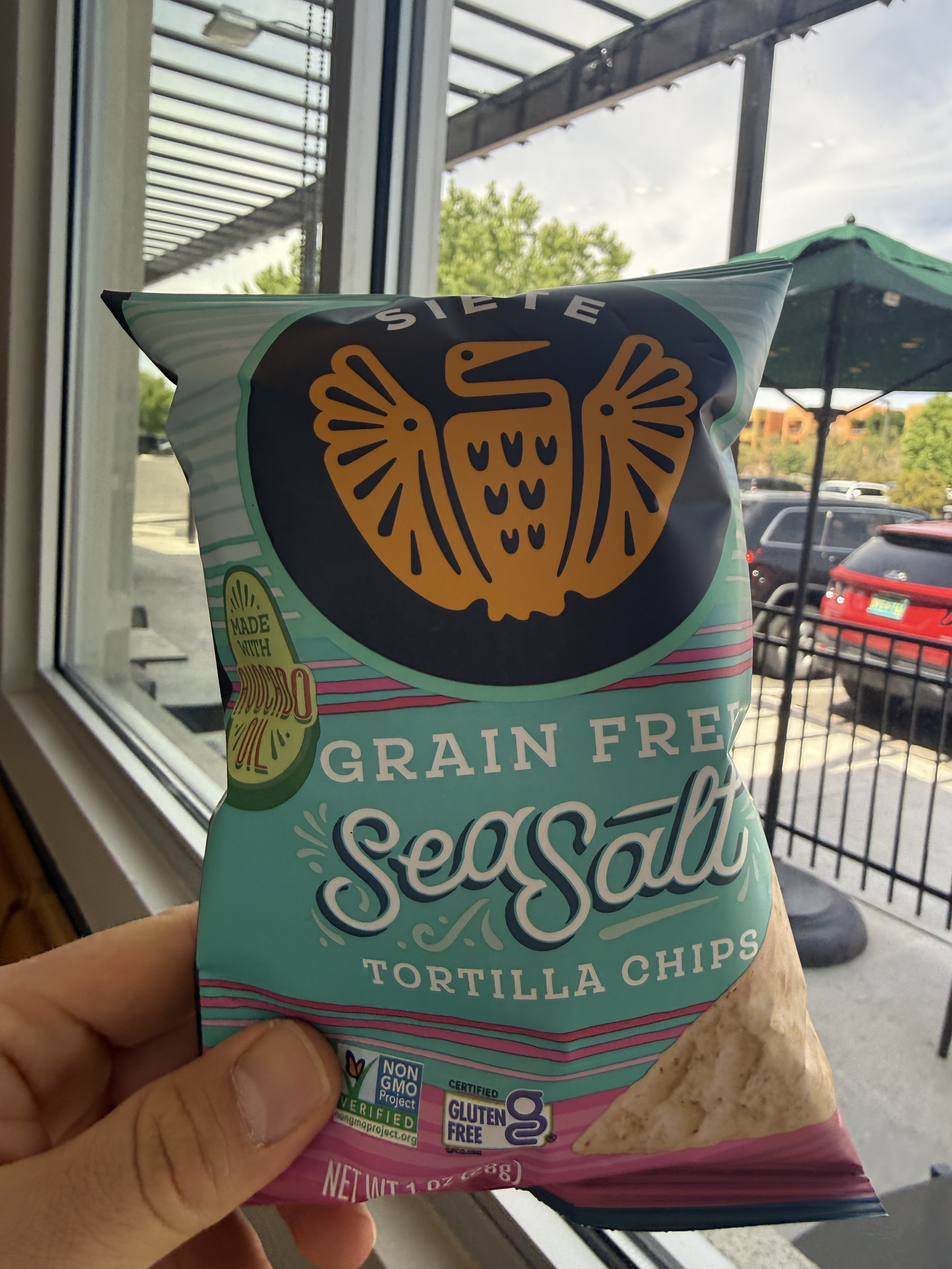sea_salt: (104, 284, 894, 1244)
